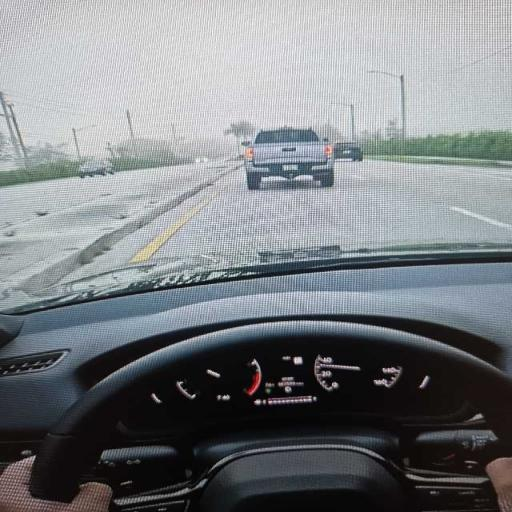car: (0, 250, 511, 511), (79, 161, 114, 177), (333, 143, 363, 161)
lane: (79, 161, 511, 275), (0, 162, 238, 289)
person: (0, 458, 111, 511)
truck: (244, 128, 334, 189)
